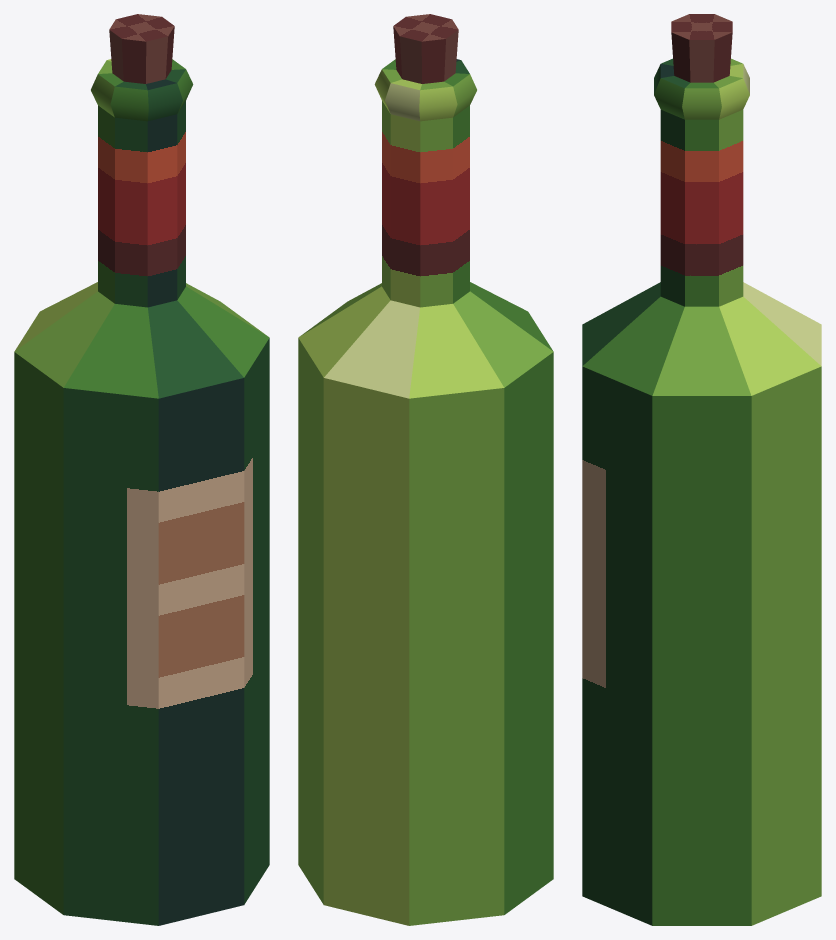
The model's file is Bottle.fbx.
The picture shows the model from 3 angles, left to right: view 1: azimuth 30°, elevation 25°; view 2: azimuth 150°, elevation 25°; view 3: azimuth 270°, elevation 25°; orthographic projection.
Visible parts, largest first — view 1: pCylinder1; view 2: pCylinder1; view 3: pCylinder1.
Boxes of the visible parts, left/top/right/bottom form: pCylinder1: left=14, top=14, right=269, bottom=925; pCylinder1: left=298, top=14, right=553, bottom=925; pCylinder1: left=582, top=14, right=821, bottom=925.
Bounding box in the file's own units: 0.9239 × 3.62 × 0.9239.
